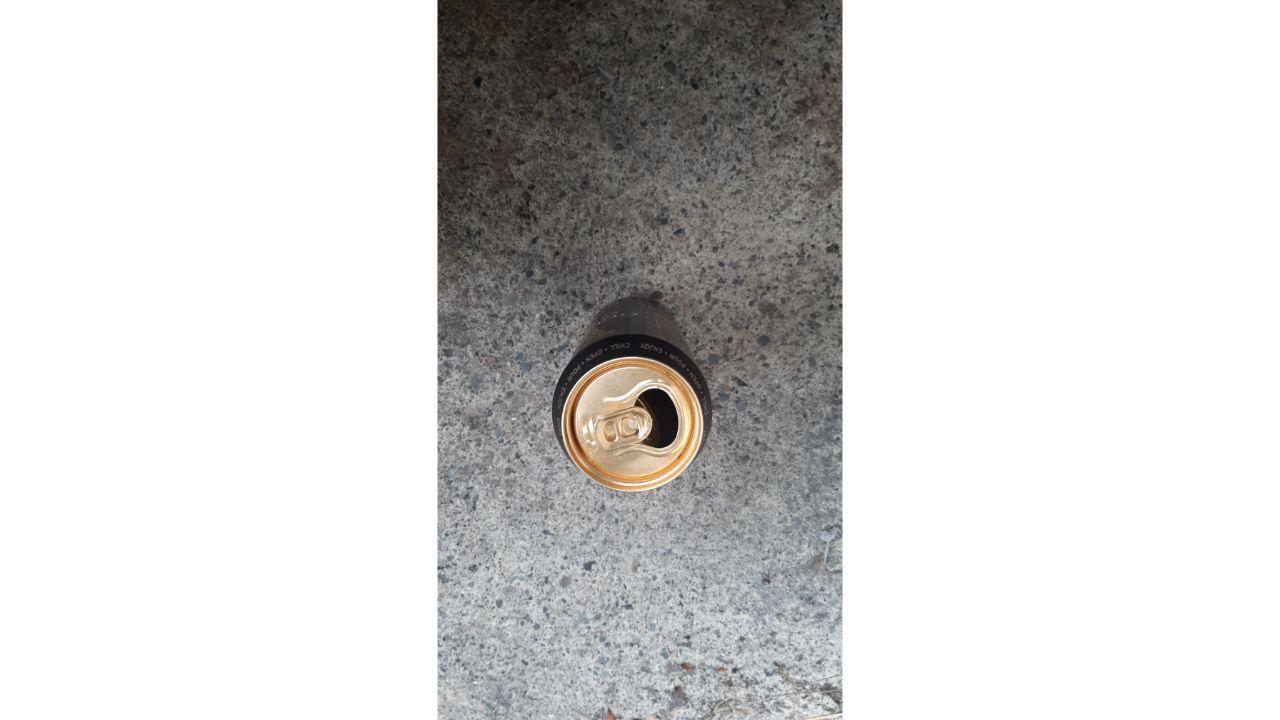Can: (542, 283, 726, 503)
